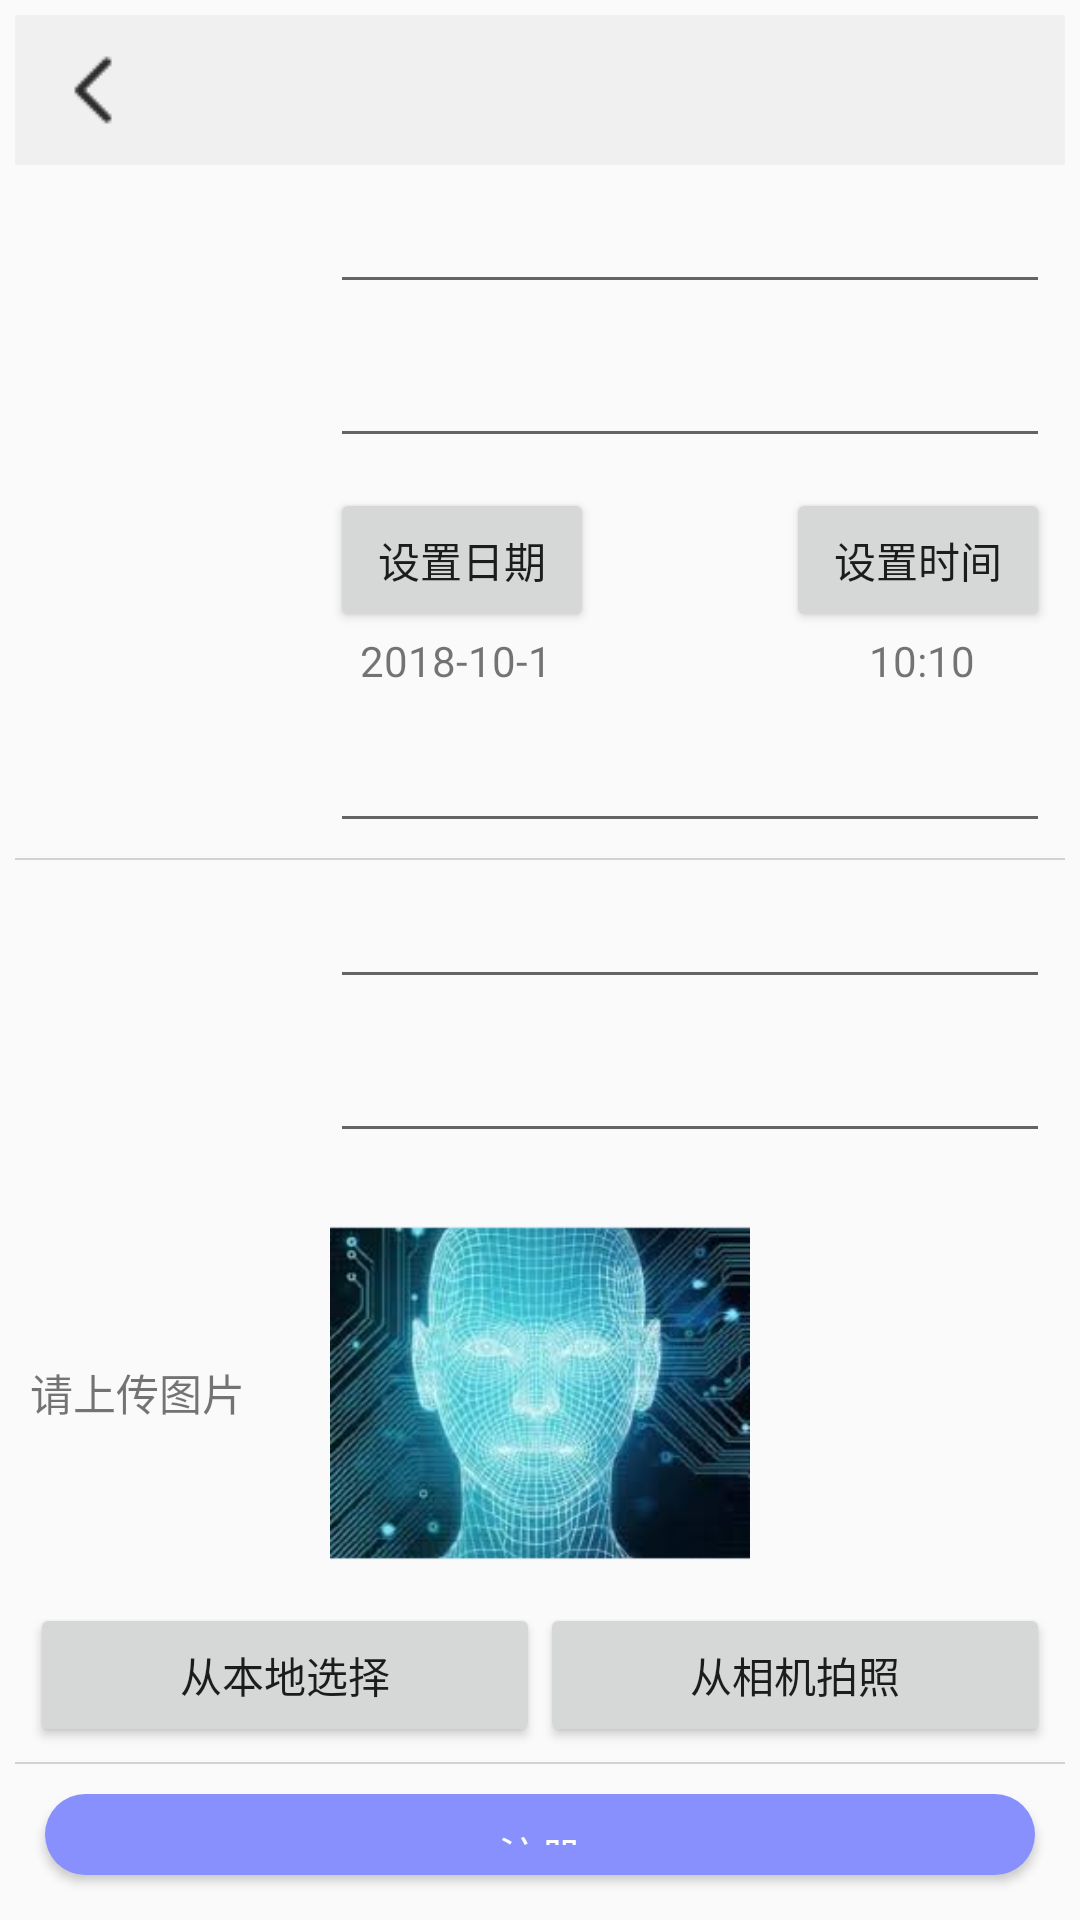

Named icons in this screenshot (1080 x 1920) and their centers, (x,y):
back: (93,90)
